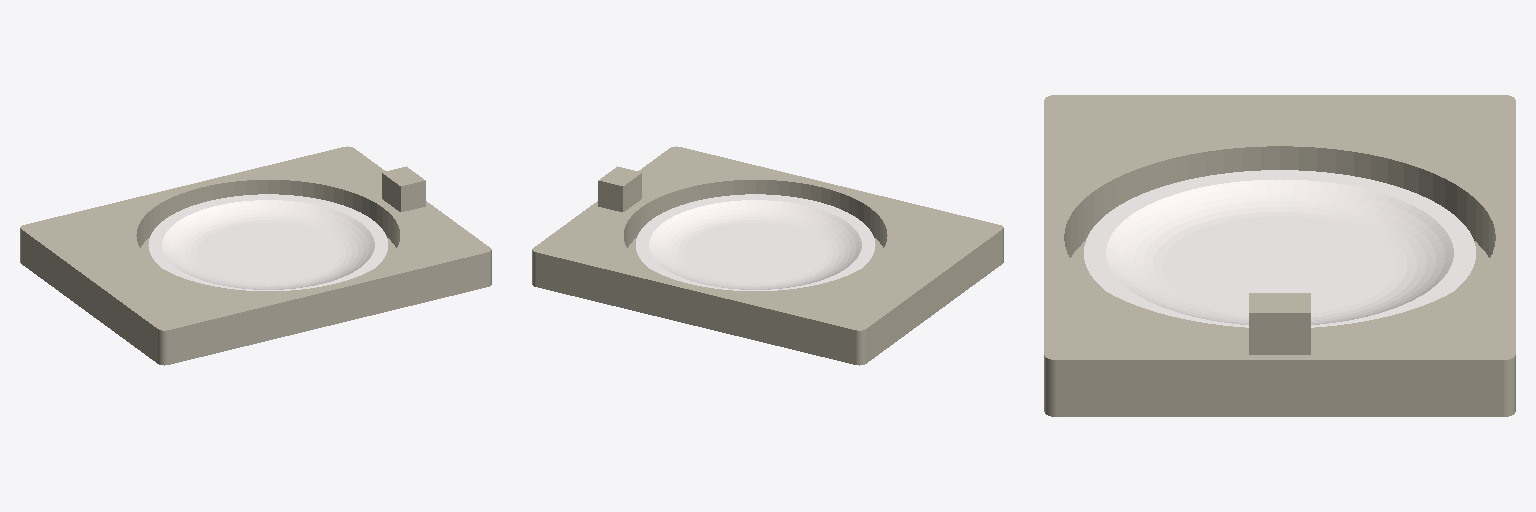
URDF robot description (vision_training_models):
<?xml version="1.0" ?>
<!-- Generated using onshape-to-robot -->
<!-- Onshape https://cad.onshape.com/documents/d2a23bae68f35bdc0ae84dd2/w/80da26b3feeb954c36e05d0c/e/fc5d45101b3f5a5019b0cab2 -->
<robot name="vision_training_models">
  <!-- Link part_1 -->
  <link name="part_1">
    <inertial>
      <origin xyz="0 0 0" rpy="0 0 0"/>
      <mass value="1e-09"/>
      <inertia ixx="1e-09" ixy="0" ixz="0" iyy="1e-09" iyz="0" izz="1e-09"/>
    </inertial>
    <!-- Part part_1 -->
    <visual>
      <origin xyz="0.018519 0.0605531 -0.113426" rpy="0 -4.0797e-08 0"/>
      <geometry>
        <mesh filename="package://assets/part_1.stl"/>
      </geometry>
      <material name="part_1_material">
        <color rgba="0.8 0.776471 0.713725 1"/>
      </material>
    </visual>
    <collision>
      <origin xyz="0.018519 0.0605531 -0.113426" rpy="0 -4.0797e-08 0"/>
      <geometry>
        <mesh filename="package://assets/part_1.stl"/>
      </geometry>
    </collision>
  </link>
  <!-- Link part_1_2 -->
  <link name="part_1_2">
    <inertial>
      <origin xyz="0 0 0" rpy="0 0 0"/>
      <mass value="1e-09"/>
      <inertia ixx="1e-09" ixy="0" ixz="0" iyy="1e-09" iyz="0" izz="1e-09"/>
    </inertial>
    <!-- Part part_1_2 -->
    <visual>
      <origin xyz="0.015 -0.03 0.03" rpy="3.14159 -0 0"/>
      <geometry>
        <mesh filename="package://assets/part_1__2.stl"/>
      </geometry>
      <material name="part_1_2_material">
        <color rgba="0.301961 0.301961 0.301961 1"/>
      </material>
    </visual>
    <collision>
      <origin xyz="0.015 -0.03 0.03" rpy="3.14159 -0 0"/>
      <geometry>
        <mesh filename="package://assets/part_1__2.stl"/>
      </geometry>
    </collision>
  </link>
  <!-- Joint from part_1 to part_1_2 -->
  <joint name="non-mujoco" type="fixed">
    <origin xyz="0.196019 0.0605531 -0.0434255" rpy="3.14159 -4.0797e-08 0"/>
    <parent link="part_1"/>
    <child link="part_1_2"/>
    <axis xyz="0 0 1"/>
    <limit effort="10" velocity="10"/>
  </joint>
  <!-- Link part_1_3 -->
  <link name="part_1_3">
    <inertial>
      <origin xyz="0 0 0" rpy="0 0 0"/>
      <mass value="1e-09"/>
      <inertia ixx="1e-09" ixy="0" ixz="0" iyy="1e-09" iyz="0" izz="1e-09"/>
    </inertial>
    <!-- Part part_1_3 -->
    <visual>
      <origin xyz="0 0 0" rpy="3.14159 -0 0"/>
      <geometry>
        <mesh filename="package://assets/part_1__3.stl"/>
      </geometry>
      <material name="part_1_3_material">
        <color rgba="1 0.976471 0.976471 1"/>
      </material>
    </visual>
    <collision>
      <origin xyz="0 0 0" rpy="3.14159 -0 0"/>
      <geometry>
        <mesh filename="package://assets/part_1__3.stl"/>
      </geometry>
    </collision>
  </link>
  <!-- Joint from part_1 to part_1_3 -->
  <joint name="non-mujoco-plate" type="fixed">
    <origin xyz="0.033519 0.0605531 -0.103426" rpy="3.14159 -4.0797e-08 0"/>
    <parent link="part_1"/>
    <child link="part_1_3"/>
    <axis xyz="0 0 1"/>
    <limit effort="10" velocity="10"/>
  </joint>
</robot>

--- What the picture shows (computed from the rendered views, not written in the file) ---
3 views of the same robot in one strip: view 1: azimuth 30°, elevation 25°; view 2: azimuth 150°, elevation 25°; view 3: azimuth 270°, elevation 25° (orthographic).
Robot: vision_training_models — 3 links, 2 joints (2 fixed); root link part_1; default pose: all joints at 0.
Links seen in each view (by area): view 1: part_1, part_1_3; view 2: part_1, part_1_3; view 3: part_1, part_1_3.
Boxes of the visible links, x1=… form: part_1: x1=20, y1=146, x2=491, y2=365; part_1_3: x1=148, y1=194, x2=387, y2=290; part_1: x1=532, y1=146, x2=1003, y2=365; part_1_3: x1=636, y1=194, x2=875, y2=290; part_1: x1=1044, y1=95, x2=1515, y2=416; part_1_3: x1=1084, y1=170, x2=1475, y2=327.
Size in the robot's own frame: 0.4 by 0.3 by 0.07 metres.
Meshes: 3 distinct files referenced, 2 mesh visuals loaded (2 binary STL); not drawn: 1 (reference not matched to a file when rendering).
